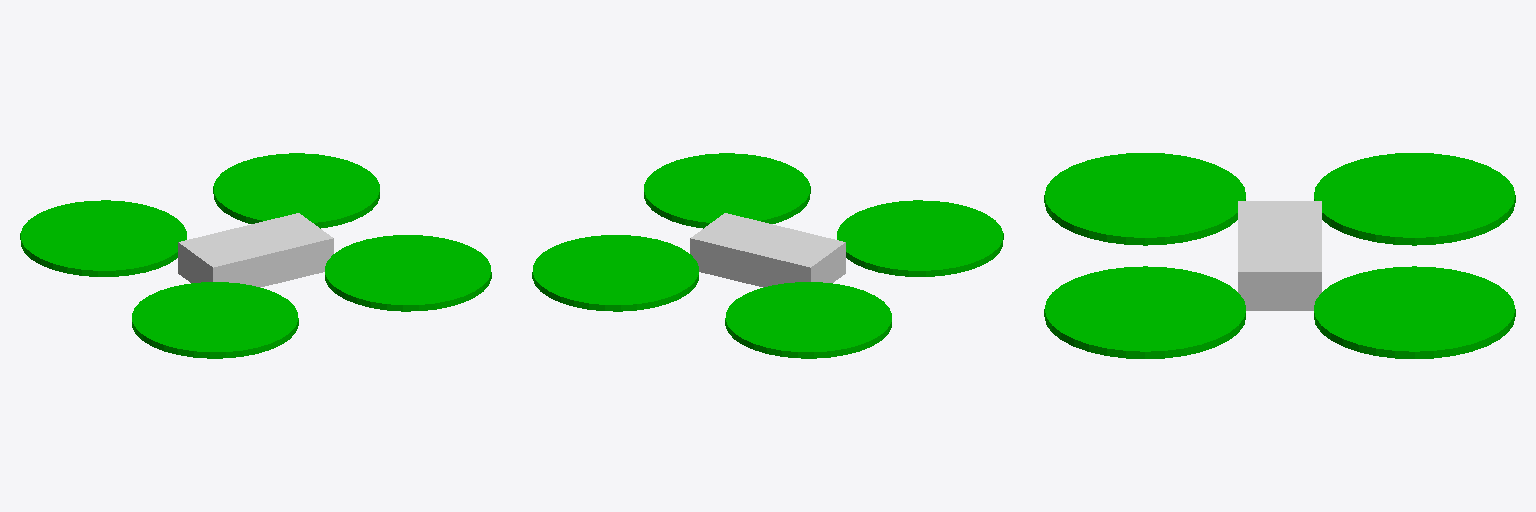
URDF robot description (drone):
<?xml version="1.0" ?>

<robot name="drone">

  <material name="white">
    <color rgba="0.9 0.9 0.9 1.0"/>
  </material>
  <material name="green">
    <color rgba="0.0 0.8 0.0 1.0"/>
  </material>


  <link name="base_link">
    <visual>
      <origin rpy="0 0 0" xyz="0 0 0"/>
      <geometry>
        <box size="0.2 0.1 0.05"/>
      </geometry>
      <material name="white"/>
    </visual>
    <collision>
      <origin rpy="0 0 0" xyz="0 0 0"/>
      <geometry>
        <box size="0.2 0.1 0.05"/>
      </geometry>
    </collision>
    <inertial>
      <mass value="1.0"/>
      <inertia ixx="0.01" ixy="0" ixz="0" iyy="0.01" iyz="0" izz="0.016"/>
    </inertial>
  </link>


  <link name="front_right_prop">
    <visual>
      <origin rpy="0 0 0" xyz="0 0 0"/>
      <geometry>
        <cylinder length="0.01" radius="0.12"/>
      </geometry>
      <material name="green"/>
    </visual>
    <collision>
      <origin rpy="0 0 0" xyz="0 0 0"/>
      <geometry>
        <cylinder length="0.01" radius="0.12"/>
      </geometry>
    </collision>
    <inertial>
      <mass value="0"/>
      <inertia ixx="0" ixy="0" ixz="0" iyy="0" iyz="0" izz="0"/>
    </inertial>
  </link>
  <joint name="base_to_front_right_prop" type="fixed">
    <parent link="base_link"/>
    <child link="front_right_prop"/>
    <origin xyz="0.16 -0.16 0"/>
    <axis xyz="1 0 0"/>
  </joint>


  <link name="back_left_prop">
    <visual>
      <origin rpy="0 0 0" xyz="0 0 0"/>
      <geometry>
        <cylinder length="0.01" radius="0.12"/>
      </geometry>
      <material name="green"/>
    </visual>
    <collision>
      <origin rpy="0 0 0" xyz="0 0 0"/>
      <geometry>
        <cylinder length="0.01" radius="0.12"/>
      </geometry>
    </collision>
    <inertial>
      <mass value="0"/>
      <inertia ixx="0" ixy="0" ixz="0" iyy="0" iyz="0" izz="0"/>
    </inertial>
  </link>
  <joint name="base_to_back_left_prop" type="fixed">
    <parent link="base_link"/>
    <child link="back_left_prop"/>
    <origin xyz="-0.16 0.16 0"/>
    <axis xyz="1 0 0"/>
  </joint>


  <link name="front_left_prop">
    <visual>
      <origin rpy="0 0 0" xyz="0 0 0"/>
      <geometry>
        <cylinder length="0.01" radius="0.12"/>
      </geometry>
      <material name="green"/>
    </visual>
    <collision>
      <origin rpy="0 0 0" xyz="0 0 0"/>
      <geometry>
        <cylinder length="0.01" radius="0.12"/>
      </geometry>
    </collision>
    <inertial>
      <mass value="0"/>
      <inertia ixx="0" ixy="0" ixz="0" iyy="0" iyz="0" izz="0"/>
    </inertial>
  </link>
  <joint name="base_to_front_left_prop" type="fixed">
    <parent link="base_link"/>
    <child link="front_left_prop"/>
    <origin xyz="0.16 0.16 0"/>
    <axis xyz="1 0 0"/>
  </joint>


  <link name="back_right_prop">
    <visual>
      <origin rpy="0 0 0" xyz="0 0 0"/>
      <geometry>
        <cylinder length="0.01" radius="0.12"/>
      </geometry>
      <material name="green"/>
    </visual>
    <collision>
      <origin rpy="0 0 0" xyz="0 0 0"/>
      <geometry>
        <cylinder length="0.01" radius="0.12"/>
      </geometry>
    </collision>
    <inertial>
      <mass value="0"/>
      <inertia ixx="0" ixy="0" ixz="0" iyy="0" iyz="0" izz="0"/>
    </inertial>
  </link>
  <joint name="base_to_back_right_prop" type="fixed">
    <parent link="base_link"/>
    <child link="back_right_prop"/>
    <!-- joint of child is xyz away from parent -->
    <origin xyz="-0.16 -0.16 0"/>
    <axis xyz="1 0 0"/>
  </joint>

</robot>

--- Facts derived from the render (not from the file) ---
The picture shows the robot from 3 angles, left to right: view 1: azimuth 30°, elevation 25°; view 2: azimuth 150°, elevation 25°; view 3: azimuth 270°, elevation 25°; orthographic projection.
Robot: drone — 5 links, 4 joints (4 fixed); root link base_link; default pose: every joint at zero.
Links seen in each view (by area): view 1: back_right_prop, front_right_prop, back_left_prop, front_left_prop, base_link; view 2: back_left_prop, front_left_prop, back_right_prop, front_right_prop, base_link; view 3: front_right_prop, front_left_prop, back_left_prop, back_right_prop, base_link.
Link boxes in pixels (box(x1,y1,x2,y2)): back_right_prop: box(132, 282, 298, 358); front_right_prop: box(325, 235, 491, 311); back_left_prop: box(20, 200, 186, 276); front_left_prop: box(213, 153, 379, 228); base_link: box(178, 213, 333, 287); back_left_prop: box(725, 282, 891, 358); front_left_prop: box(532, 235, 698, 311); back_right_prop: box(837, 200, 1003, 276); front_right_prop: box(644, 153, 810, 228); base_link: box(690, 213, 845, 287); front_right_prop: box(1044, 266, 1245, 358); front_left_prop: box(1314, 266, 1515, 358); back_left_prop: box(1314, 153, 1515, 245); back_right_prop: box(1044, 153, 1245, 245); base_link: box(1238, 201, 1321, 310).
Bounding box of the posed robot: 0.56 × 0.56 × 0.05 m (x, y, z).
Geometry: primitives only (box / cylinder / sphere), no mesh files.